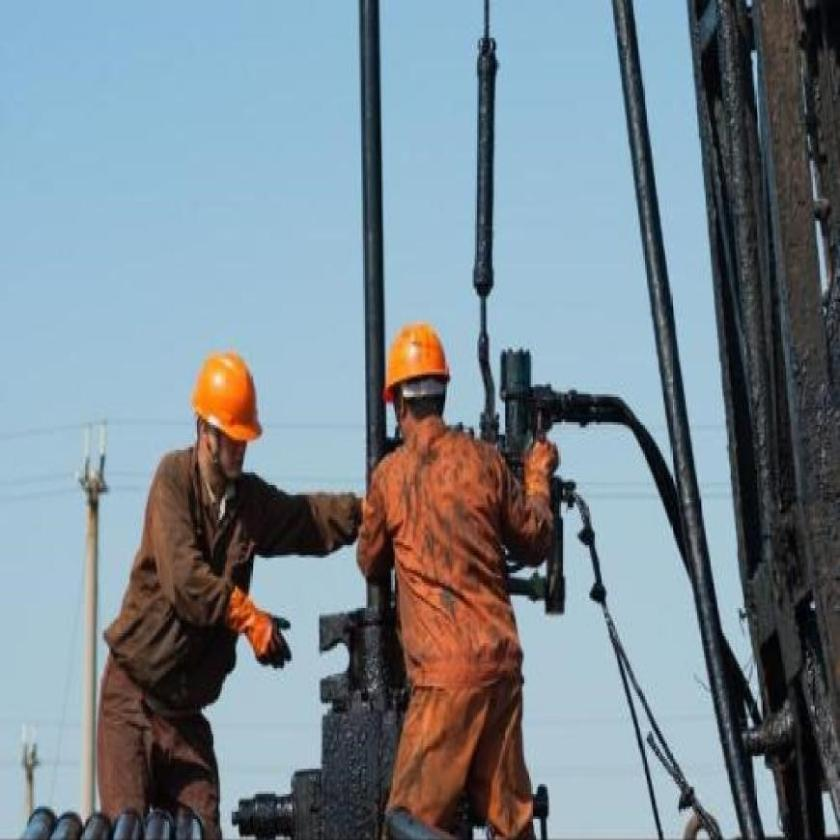Con_casco: (191, 346, 262, 502)
